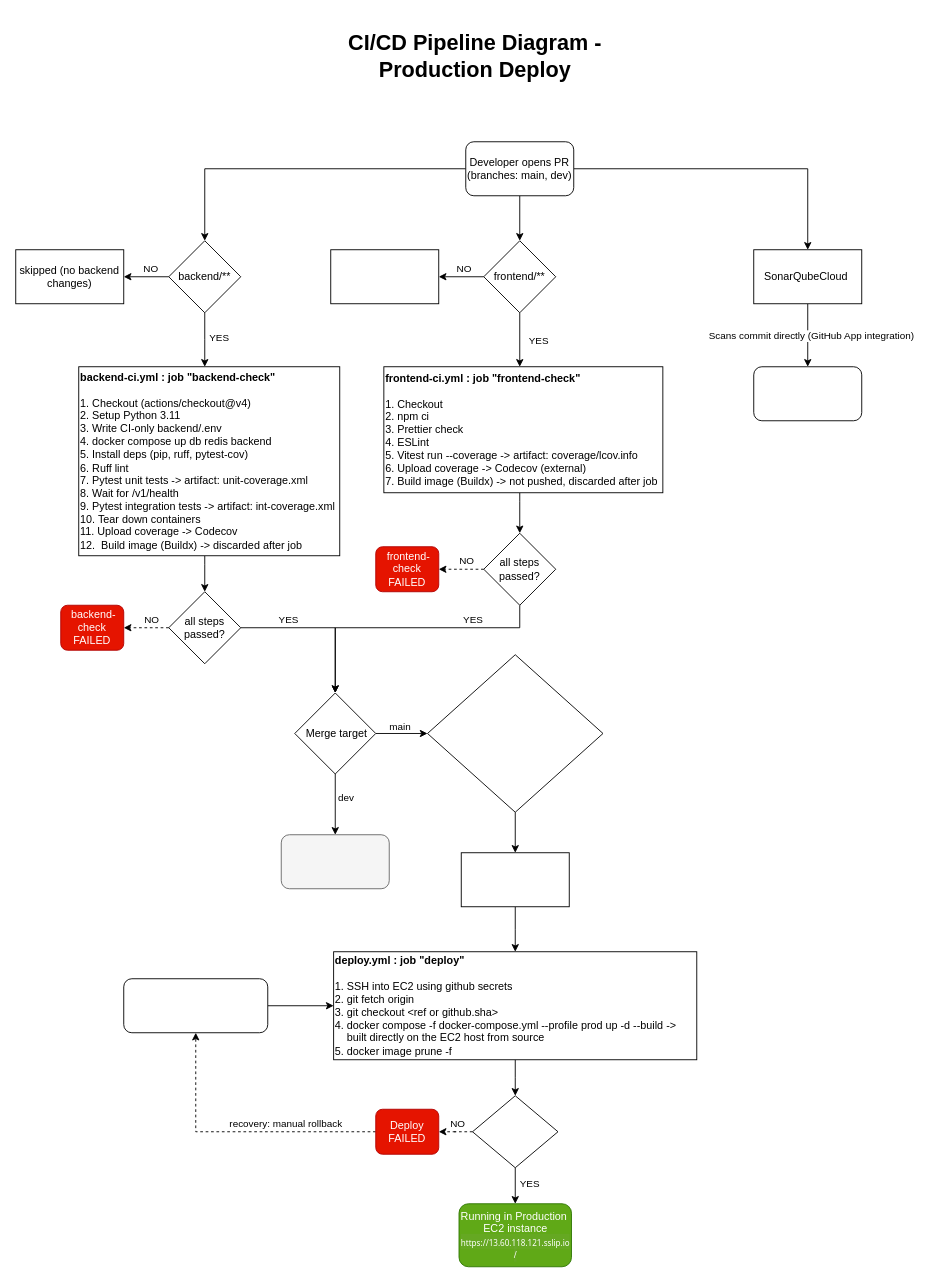
The diagram is 929 pixels wide and 1283 high, and some of its shapes have lost their labels. Each missing label, with the centre of its shape:
Branch protection on main: requires backend-check + frontend-check: point 515,733
Merged to dev - CI passed: point 334,861
script succeeded?: point 515,1131
skipped (no frontend changes): point 384,276
SonarCloud Code Analysis Report: point 807,393
triggers deploy: point 514,879
workflow_dispatch (input: ref - commit SHA/tag, blank = latest main): point 195,1005
